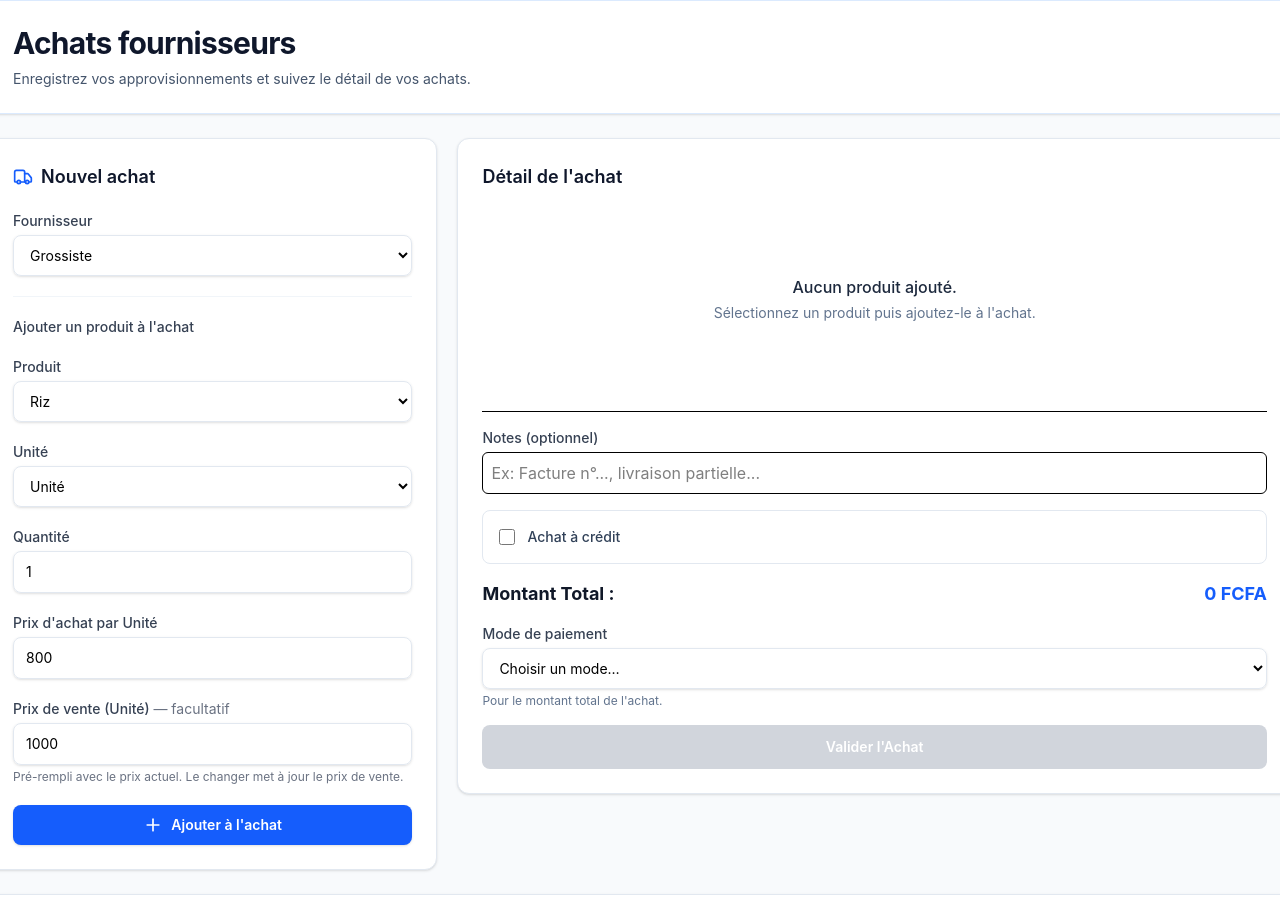
Test: Nouvel achat : prix pré-remplis › arrondi au centime : 83,33 l’unité donne 999,96 la Douzaine
Expected: the button "Ajouter à l'achat" is shown, x1=13 y1=805 x2=412 y2=845
Select "Œufs" in the 2nd dropdown named "Œufs" at (213, 402), box x1=13 y1=381 x2=412 y2=422
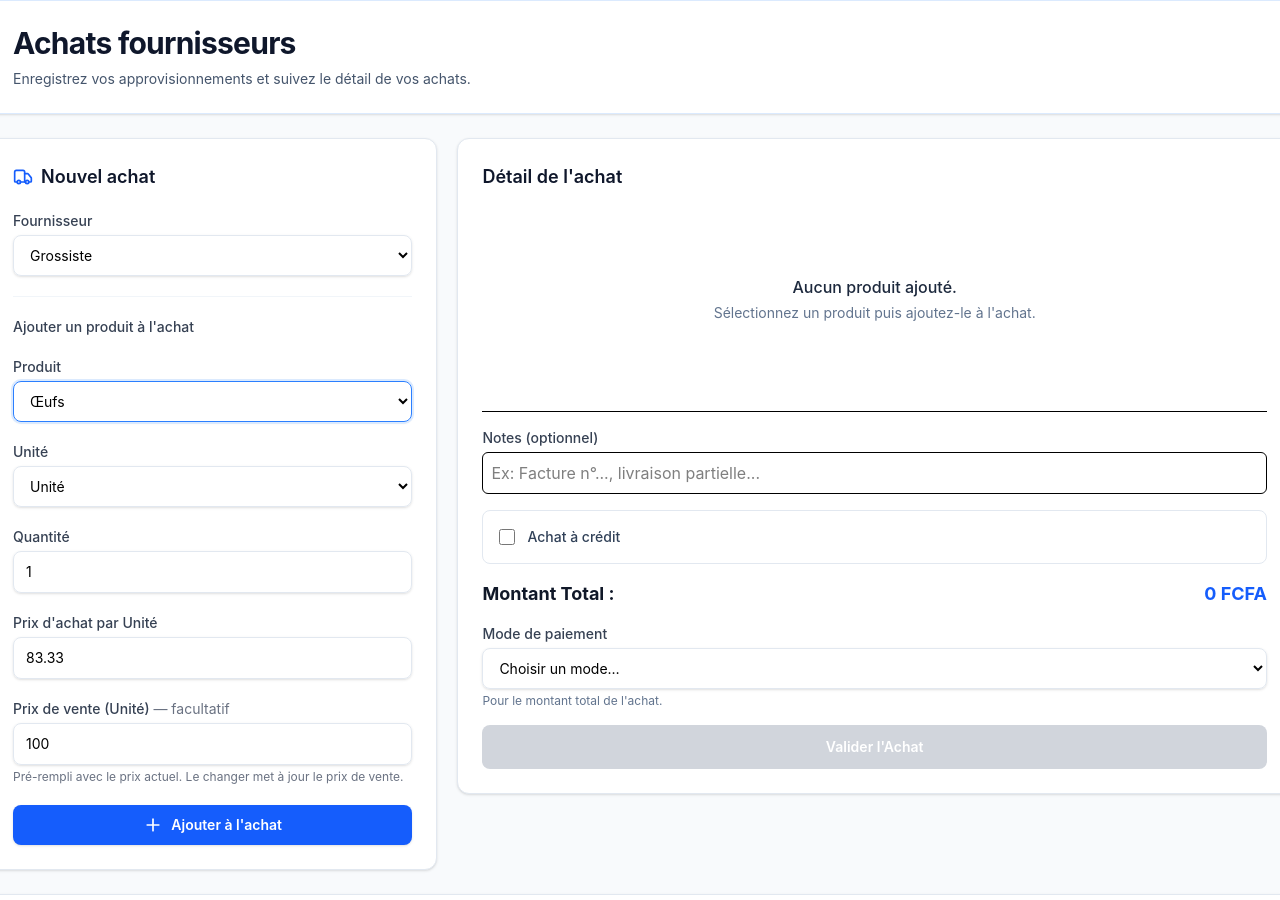
Select "Douzaine" in the 3rd dropdown named "Douzaine" at (213, 486), box x1=13 y1=466 x2=412 y2=507
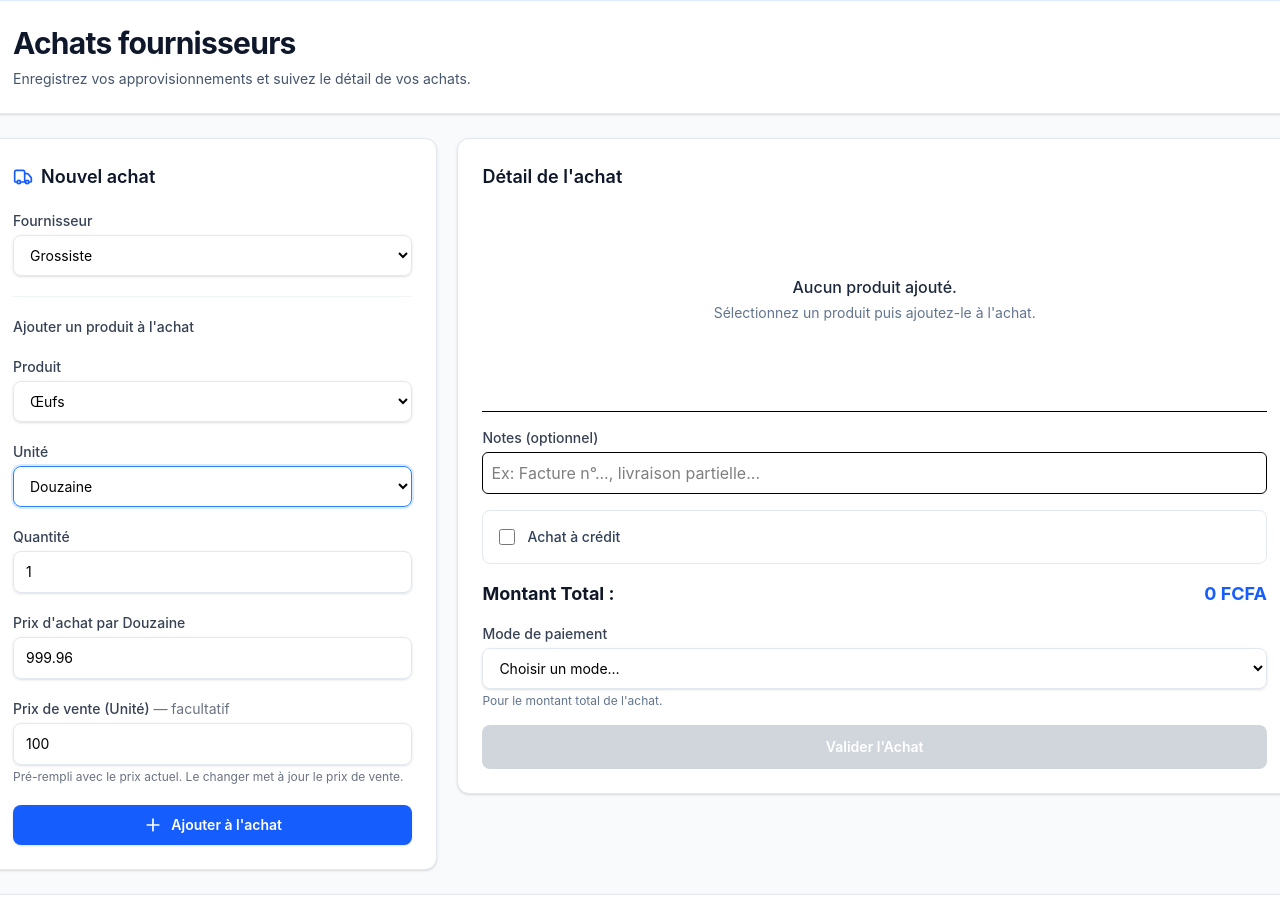
Expected: the number field with placeholder "0.00" below "Prix d'achat par" holds "999.96", x1=13 y1=637 x2=412 y2=679
